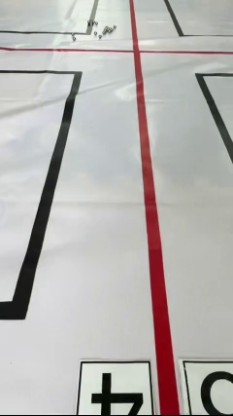ironball: (109, 22, 117, 31), (68, 33, 75, 41), (101, 27, 107, 36), (91, 28, 98, 35), (102, 22, 108, 30), (86, 18, 91, 26), (90, 18, 95, 26), (93, 18, 98, 25), (95, 34, 102, 39), (68, 30, 74, 35)
